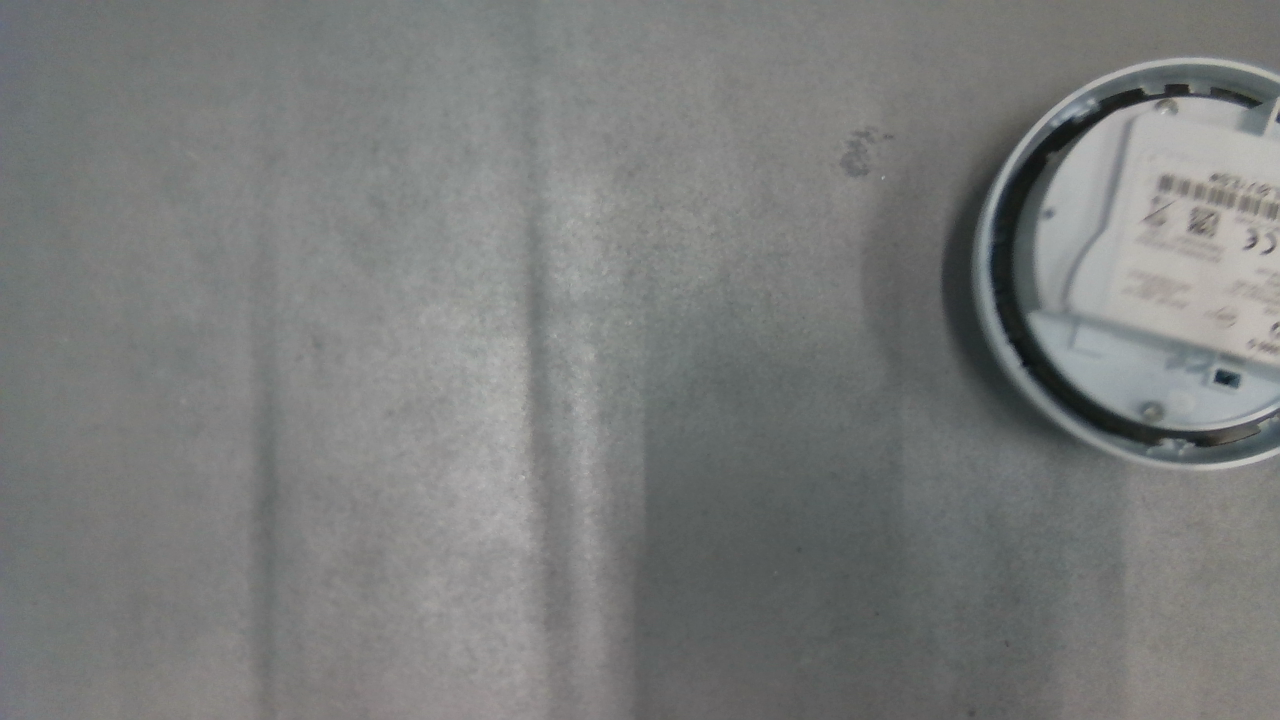HexScrew: (1153, 101, 1181, 119), (1143, 401, 1164, 424)
